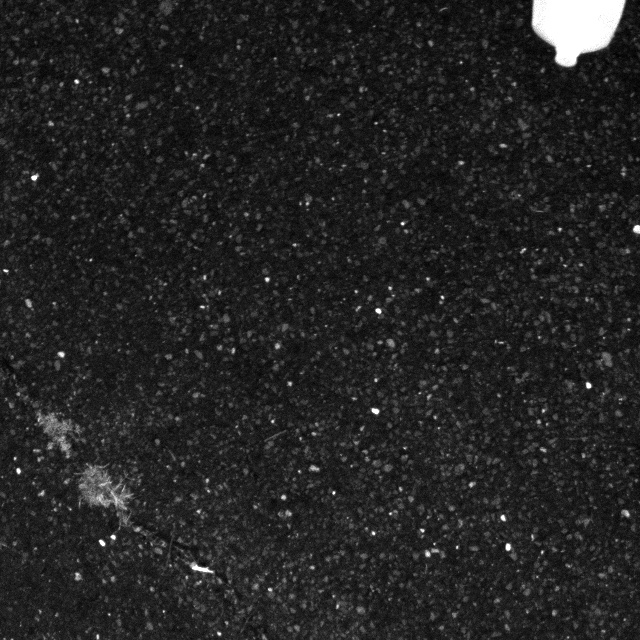can: (518, 0, 640, 81)
